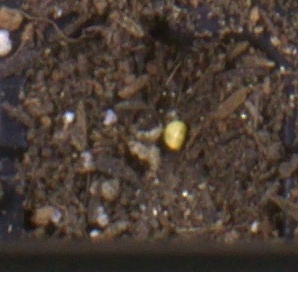chilli seed: (163, 119, 188, 151)
